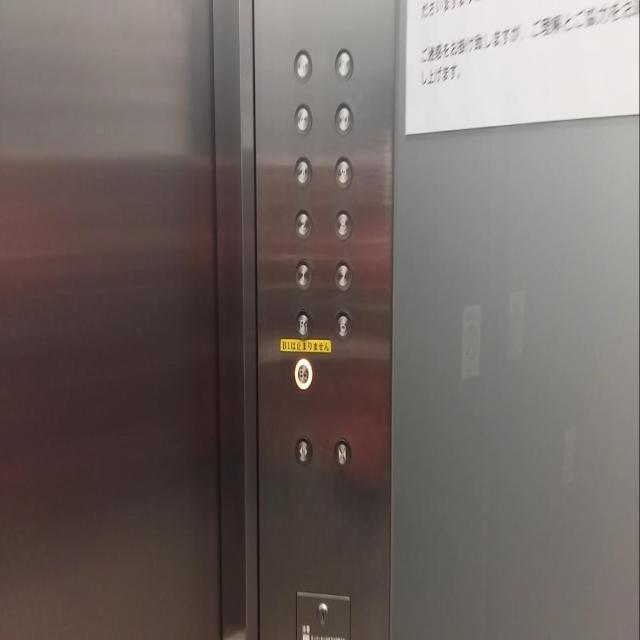1: (293, 258, 312, 292)
10: (334, 101, 352, 136)
2: (294, 205, 313, 242)
3: (294, 156, 313, 188)
4: (293, 102, 313, 136)
5: (292, 48, 312, 82)
6: (334, 308, 352, 342)
7: (334, 258, 352, 292)
8: (333, 208, 352, 242)
9: (334, 152, 353, 190)
B1: (294, 308, 312, 339)
B2: (293, 357, 312, 390)
blur: (334, 46, 353, 82)
close: (333, 436, 352, 468)
open: (294, 434, 312, 467)
